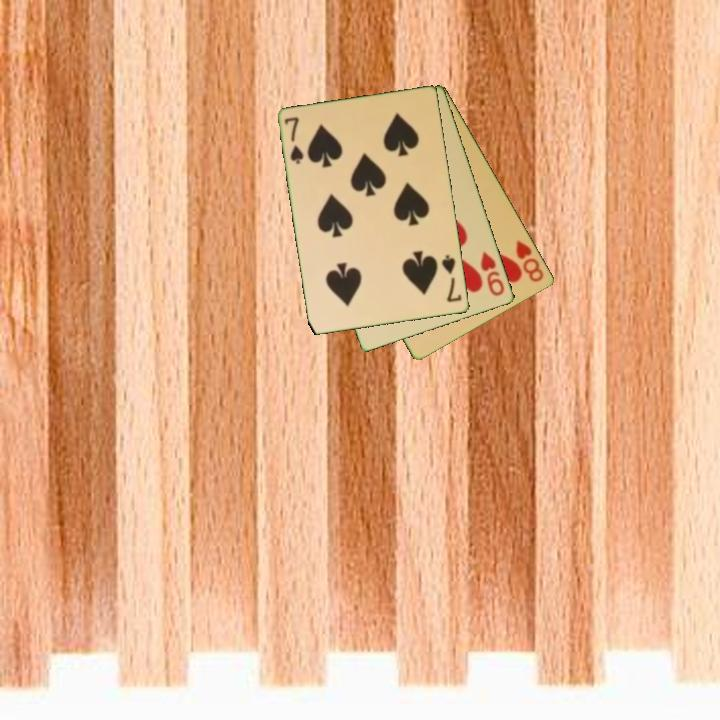7s: (439, 251, 465, 305), (281, 114, 307, 167)
8h: (512, 237, 547, 285)
9h: (477, 249, 508, 299)
